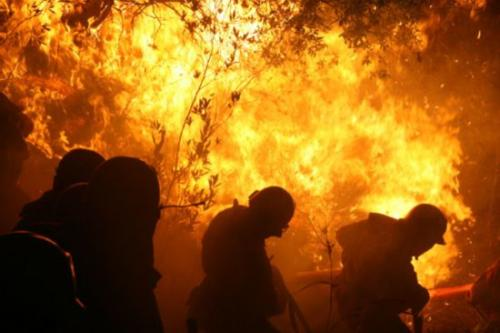fire: (123, 8, 453, 212), (10, 7, 122, 148)
smoke: (282, 216, 336, 295), (157, 217, 203, 303)
